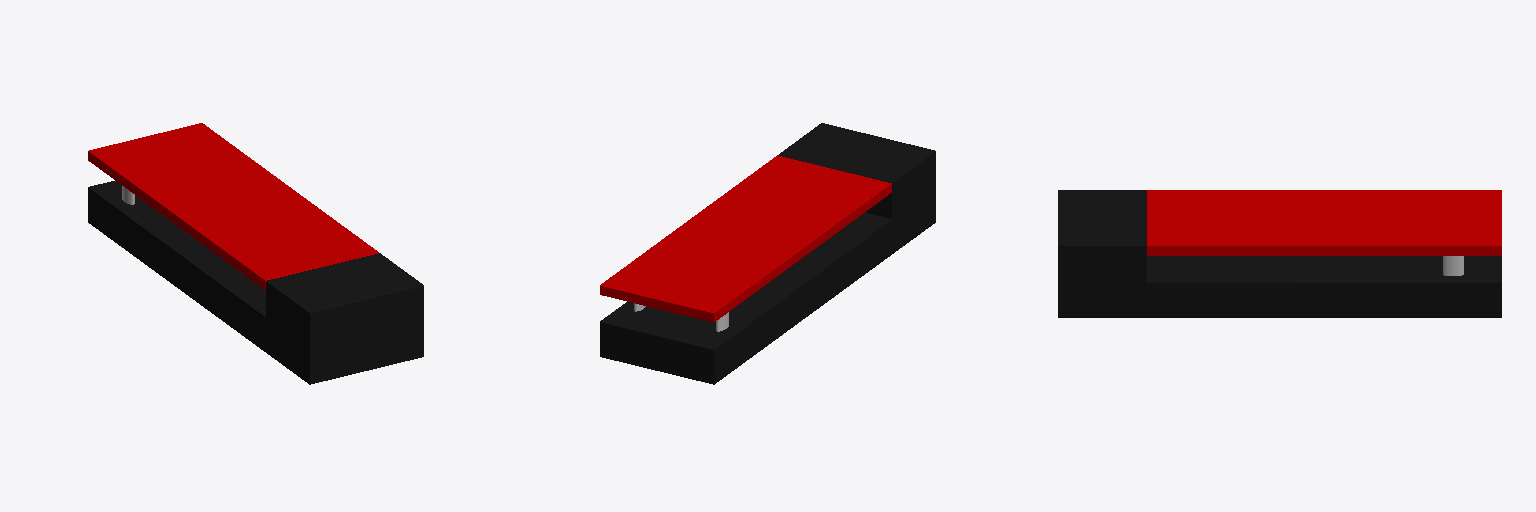
File: desk.obj
3 views of the same model, side by side, from view 1: azimuth 30°, elevation 25°; view 2: azimuth 150°, elevation 25°; view 3: azimuth 270°, elevation 25° (orthographic).
Parts seen in each view (by area): view 1: Coffee_Table; view 2: Coffee_Table; view 3: Coffee_Table.
Part boxes in pixels (x1,y1,x2,y2): Coffee_Table: (88, 123, 423, 384); Coffee_Table: (600, 123, 935, 384); Coffee_Table: (1058, 190, 1501, 317).
Size of the model in its own units: 0.7547 by 0.479 by 2.53.